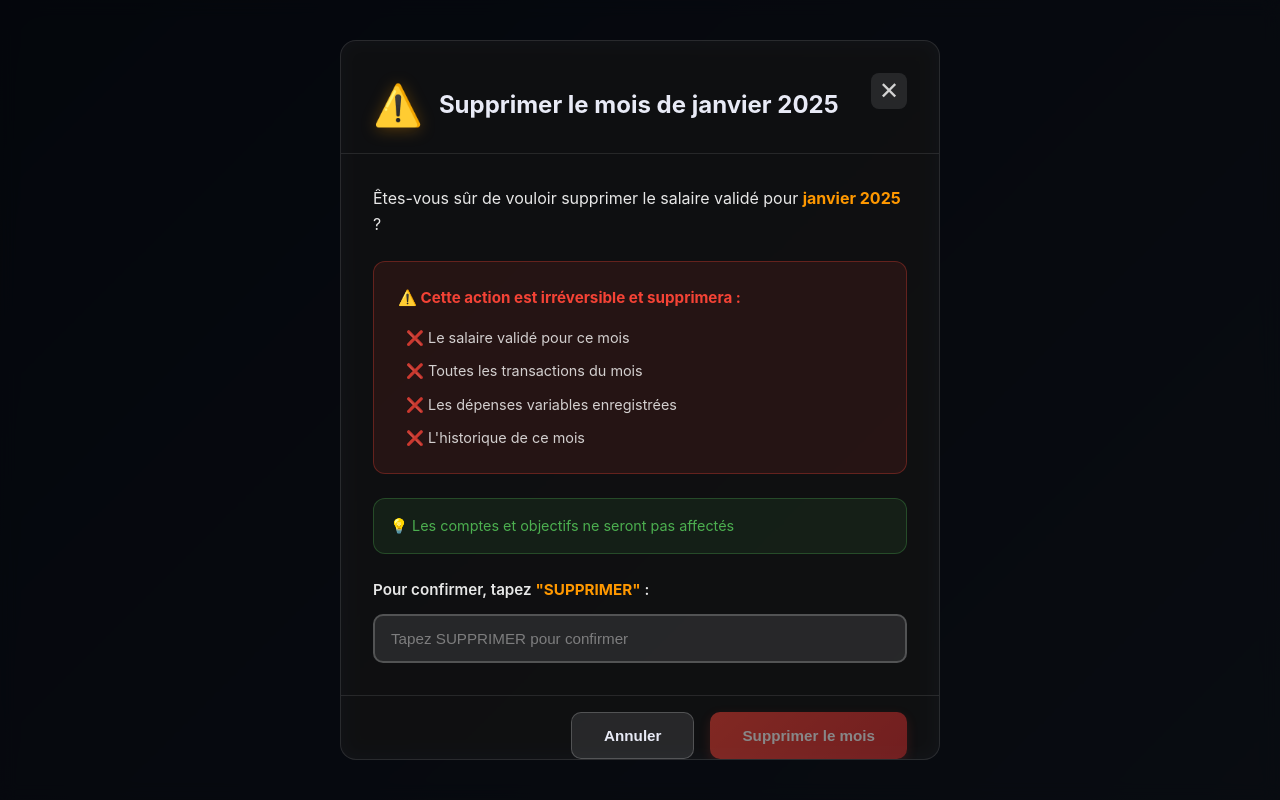
Scenario: DeleteMonthModal › delete button is enabled when SUPPRIMER is typed
This screenshot has width=1280, height=800.
In the field with class "confirmation-input": {"x": 640, "y": 638} [373,614,907,663], type "SUPPRIMER"
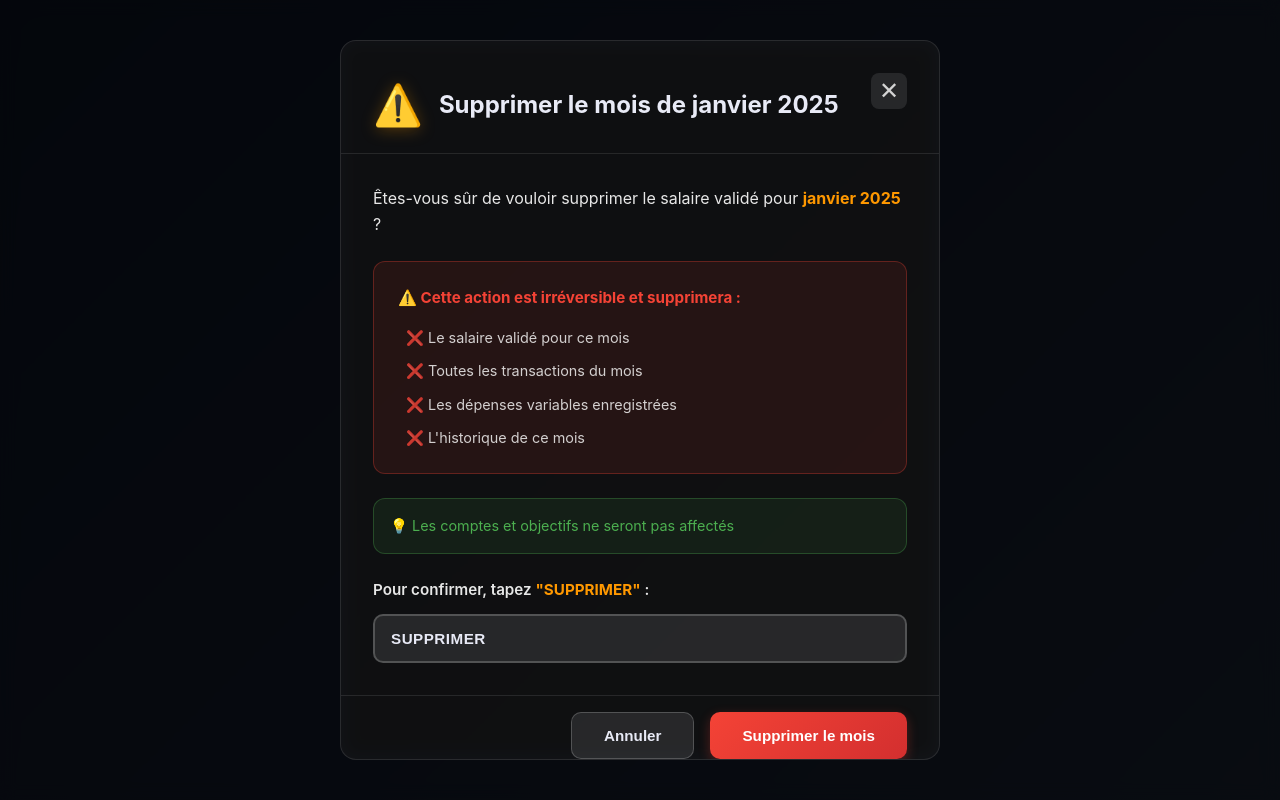
Expected: the button with class "btn-danger" is enabled, [710,712,907,759]
